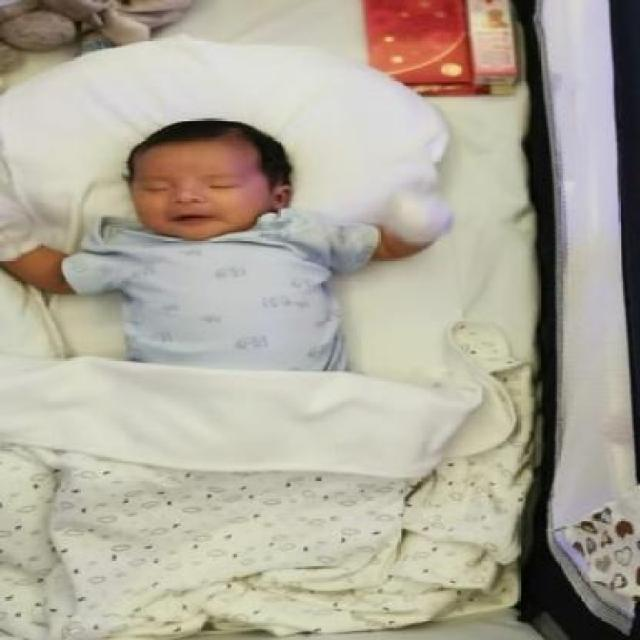baby: (0, 114, 448, 366)
